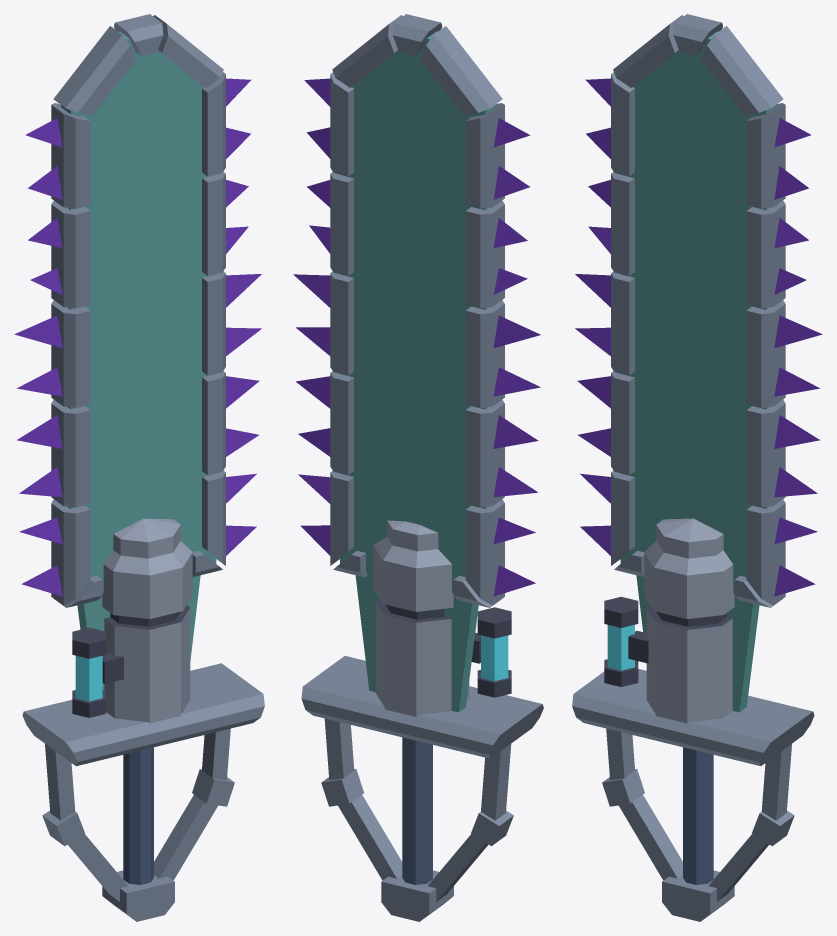
The model's file is toothed-blade-a270d3.glb.
3 renders of one model, left to right at view 1: azimuth 30°, elevation 25°; view 2: azimuth 150°, elevation 25°; view 3: azimuth 330°, elevation 25°, orthographic.
Visible parts, largest first — view 1: toothed-blade-metal, toothed-blade-matte, toothed-blade-crystal, power-cell-metal, power-cell-crystal; view 2: toothed-blade-metal, toothed-blade-matte, toothed-blade-crystal, power-cell-metal, power-cell-crystal; view 3: toothed-blade-metal, toothed-blade-matte, toothed-blade-crystal, power-cell-metal, power-cell-crystal.
Part boxes in pixels (x1,y1,x2,y2): toothed-blade-metal: (22,14,264,921); toothed-blade-matte: (61,31,216,884); toothed-blade-crystal: (14,78,261,596); power-cell-metal: (72,627,105,717); power-cell-crystal: (75,655,102,701); toothed-blade-metal: (301,14,543,921); toothed-blade-matte: (340,31,495,884); toothed-blade-crystal: (293,78,540,596); power-cell-metal: (477,607,511,697); power-cell-crystal: (481,635,508,681); toothed-blade-metal: (572,14,814,921); toothed-blade-matte: (620,31,775,884); toothed-blade-crystal: (575,78,822,596); power-cell-metal: (604,596,638,686); power-cell-crystal: (607,624,634,670).
Size of the model in its own units: 0.3517 by 1.2 by 0.125.
